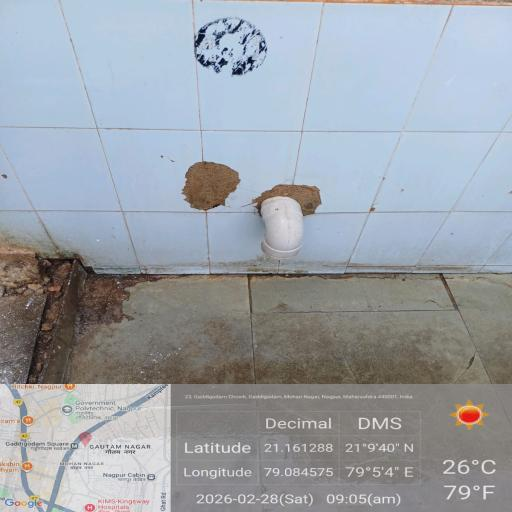dirty_floor: (0, 238, 512, 437)
